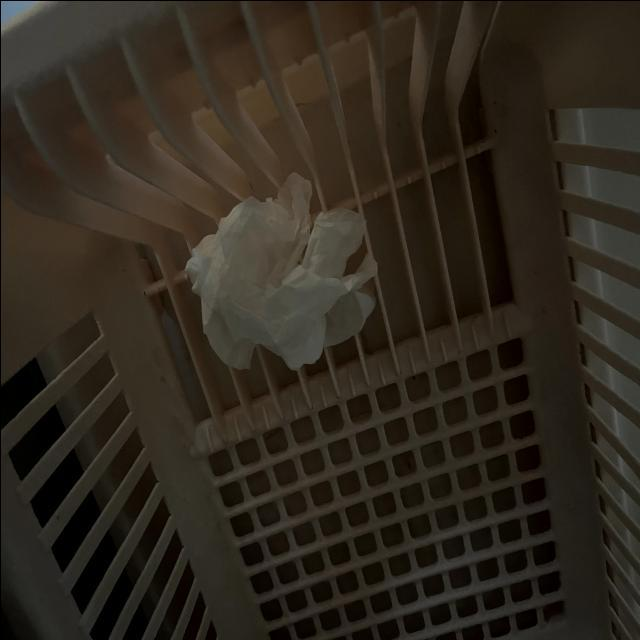Paper: (183, 153, 367, 350)
